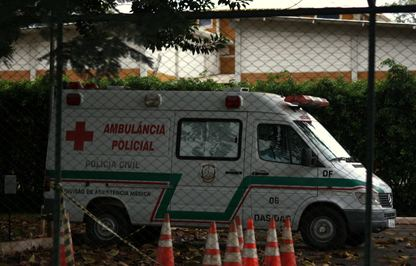ambulance: (45, 86, 399, 251)
